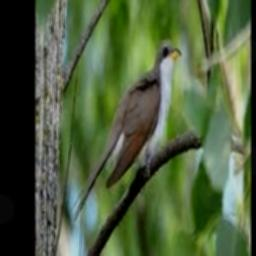Cuckoo: (72, 39, 182, 221)
